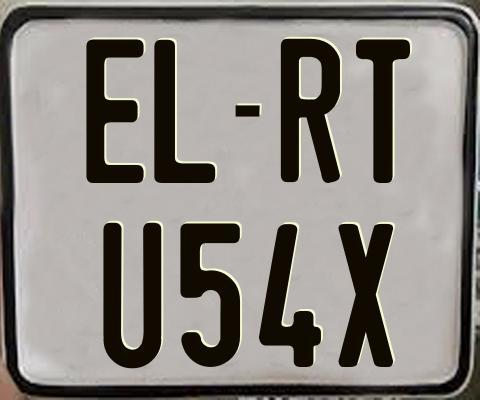4: (257, 223, 321, 366)
5: (180, 222, 246, 369)
E: (83, 38, 142, 188)
L: (153, 38, 218, 183)
R: (280, 36, 344, 180)
T: (354, 38, 412, 185)
U: (103, 223, 164, 370)
X: (337, 223, 397, 371)
